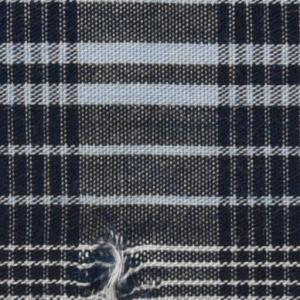Damage: (73, 228, 162, 300)
